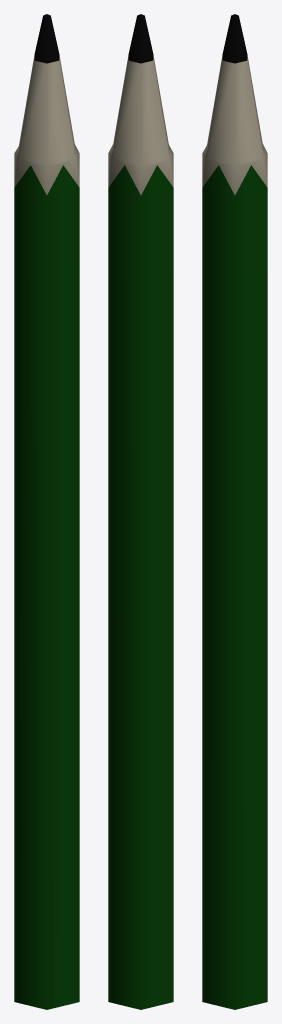
3 renders of one model, left to right at view 1: azimuth 30°, elevation 25°; view 2: azimuth 150°, elevation 25°; view 3: azimuth 330°, elevation 25°, orthographic.
Visible parts, largest first — view 1: pCylinder1; view 2: pCylinder1; view 3: pCylinder1.
Boxes of the visible parts, x1,y1,x2,y2 form: pCylinder1: (14,14,79,1009); pCylinder1: (108,14,173,1009); pCylinder1: (202,14,267,1009).
Bounding box in the file's own units: 0.8646 × 12.45 × 0.7488.
